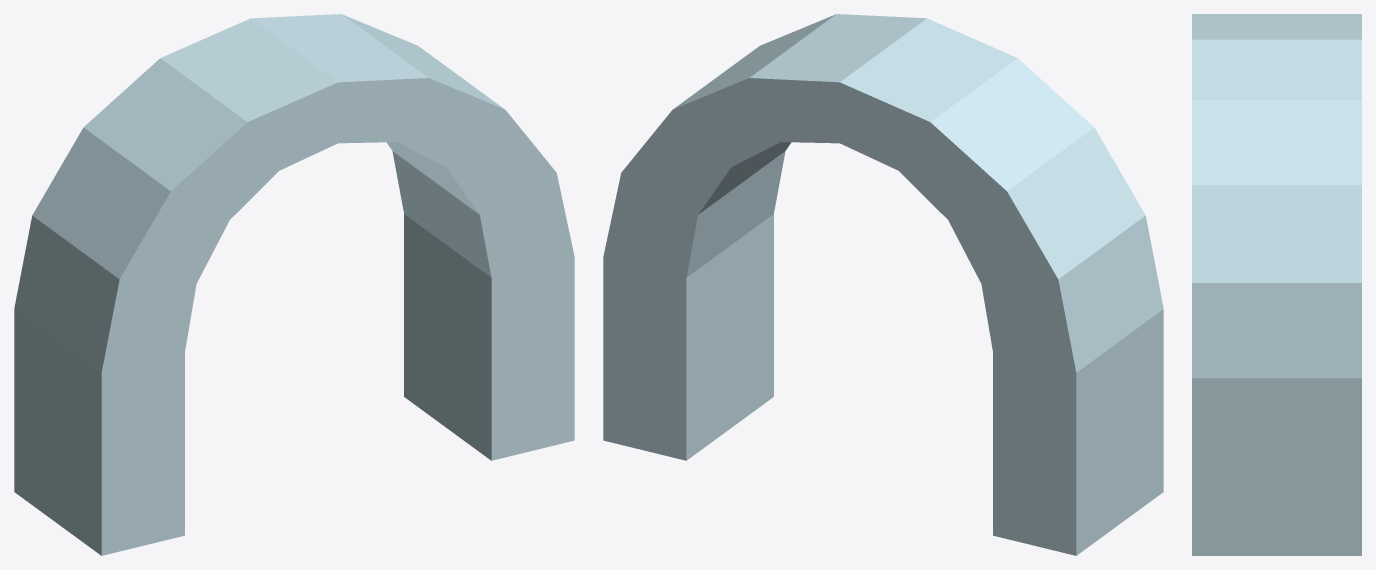
The model's file is fjord_arch_far-CO-hwd7g.glb.
3 renders of one model, left to right at view 1: azimuth 30°, elevation 25°; view 2: azimuth 150°, elevation 25°; view 3: azimuth 270°, elevation 25°, orthographic. The views are drawn at different scales.
Parts seen in each view (by area): view 1: fjord_arch_far; view 2: fjord_arch_far; view 3: fjord_arch_far.
Part boxes in pixels (x1=…): fjord_arch_far: x1=14, y1=14, x2=574, y2=555; fjord_arch_far: x1=603, y1=14, x2=1163, y2=555; fjord_arch_far: x1=1192, y1=14, x2=1361, y2=555.
Bounding box in the file's own units: 12.5 × 10.5 × 4.
